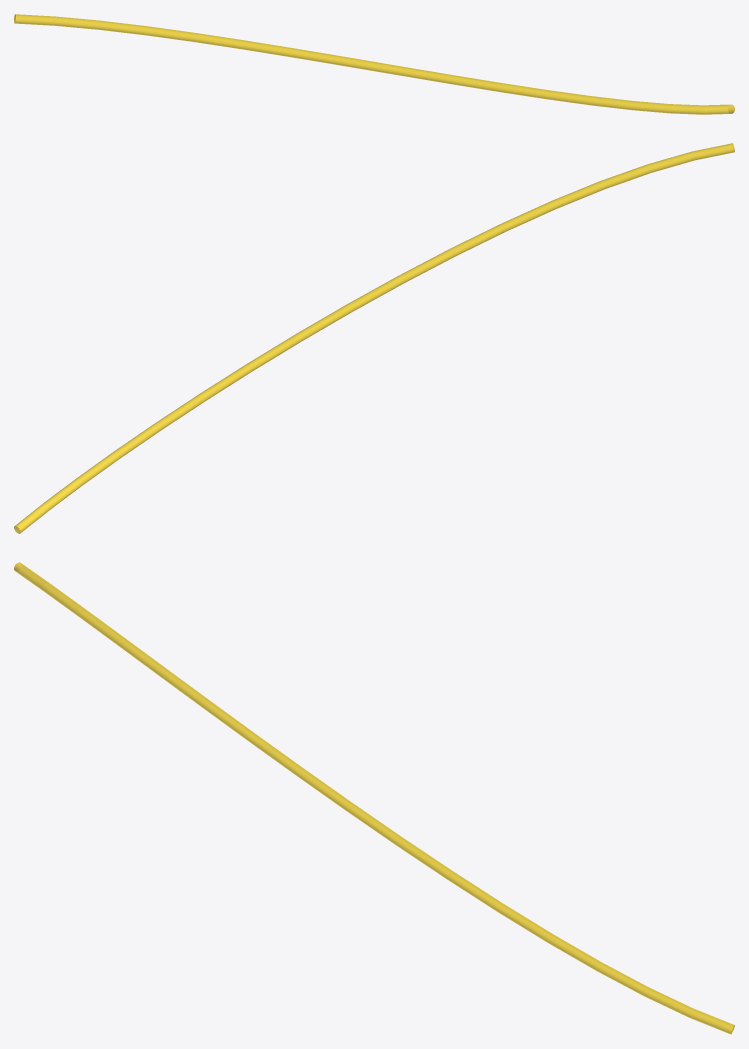
The model's file is Event_402970704_track_44.fbx.
3 views of the same model, one above another, from view 1: azimuth 30°, elevation 25°; view 2: azimuth 210°, elevation 25°; view 3: azimuth 330°, elevation 25° (orthographic). The views are drawn at different scales.
Parts seen in each view (by area): view 1: Model; view 2: Model; view 3: Model.
Part boxes in pixels (left/top/right/bottom): Model: left=14, top=14, right=734, bottom=114; Model: left=14, top=143, right=734, bottom=533; Model: left=14, top=562, right=734, bottom=1034.
Bounding box in the file's own units: 3.38 × 1.15 × 0.409.
